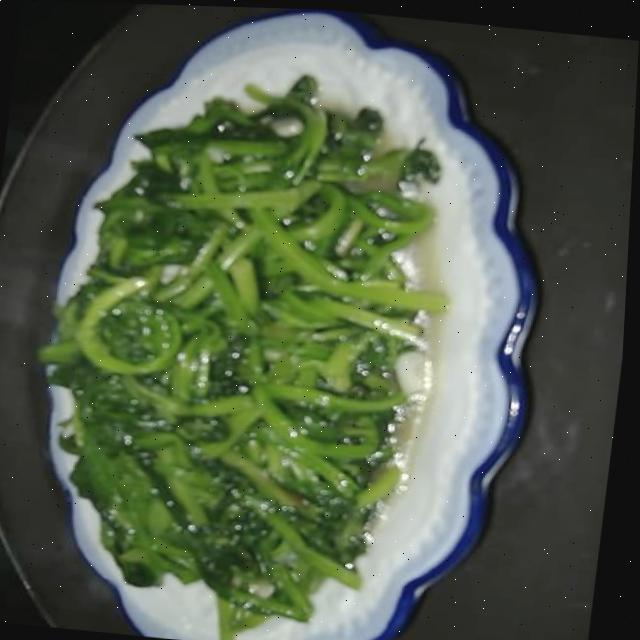蔬菜料理: (16, 1, 640, 558)
